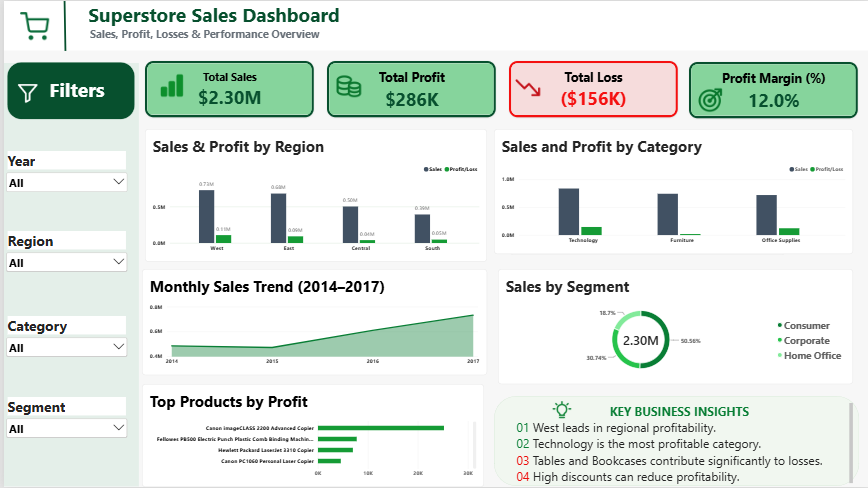

The dashboard page shown, as its layout file describes it:
{"tool":"powerbi","page":{"name":"Page 1","canvas":[1920,1080],"ordinal":0},"visuals":[{"type":"cardVisual","fields":{"Data":["Avg(SuperMarket.Profit Margin (%))"]},"box":[1524.2,135.6,375,125],"z":0,"group":"g1"},{"type":"shape","box":[1088.5,878.8,811.5,200],"z":0},{"type":"cardVisual","fields":{"Data":["Sum(SuperMarket.Sales)"]},"box":[313,132.2,375,125],"z":1000,"group":"g4"},{"type":"cardVisual","fields":{"Data":["Sum(SuperMarket.Loss)"]},"box":[1121.1,132.2,375,125],"z":1000,"group":"g2"},{"type":"textbox","box":[1125,892.3,761.5,188.5],"z":1000,"group":"g7"},{"type":"cardVisual","fields":{"Data":["Sum(SuperMarket.Profit)"]},"box":[717.1,132.2,375,125],"z":2000,"group":"g5"},{"type":"shape","box":[0,138.9,299.8,941.1],"z":2000},{"type":"shape","box":[6.6,136.7,284.3,127.8],"z":3000},{"type":"shape","box":[0,0,1920,110],"z":4000},{"type":"textbox","box":[175.6,0,662.2,82.2],"z":5000},{"type":"textbox","box":[191.1,55.6,680,55.6],"z":6000},{"type":"shape","box":[100,0,71.1,111.1],"z":7000},{"type":"image","box":[35,25,65,65],"z":8000},{"type":"slicer","fields":{"Values":["SuperMarket.Year"]},"box":[0,333.3,279,100],"z":9000},{"type":"clusteredColumnChart","title":"Sales & Profit by Region","fields":{"Category":["SuperMarket.Region"],"Y":["Sum(SuperMarket.Sales)","Sum(SuperMarket.Profit)"]},"box":[313,284.3,760.4,295.3],"z":10000},{"type":"lineChart","fields":{"Category":["SuperMarket.Year"],"Y":["Sum(SuperMarket.Sales)"]},"box":[1124.1,304.2,611.1,260],"z":11000},{"type":"clusteredBarChart","title":"Top Products by Profit","fields":{"Category":["SuperMarket.Product Name"],"Y":["Sum(SuperMarket.Profit)"]},"box":[306.4,850.8,760.4,229.2],"z":12000},{"type":"clusteredColumnChart","title":"Sales and Profit by Category","fields":{"Category":["SuperMarket.Category"],"Y":["Sum(SuperMarket.Sales)","Sum(SuperMarket.Profit)"]},"box":[1088.8,284.3,797.9,277.7],"z":13000},{"type":"image","box":[13.2,177,79.3,52.9],"z":14000,"group":"g6"},{"type":"donutChart","title":"Sales by Segment","fields":{"Category":["SuperMarket.Segment"],"Y":["Sum(SuperMarket.Sales)"]},"box":[1097.6,595.1,789.1,255.7],"z":14000},{"type":"image","box":[299.8,156.4,145,60],"z":15000,"group":"g4"},{"type":"lineChart","title":"Monthly Sales Trend (2014–2017)","fields":{"Category":["SuperMarket.Year"],"Y":["Sum(SuperMarket.Sales)"]},"box":[306.4,595.1,767,235.8],"z":15000},{"type":"image","box":[692.1,156.4,145,60],"z":16000,"group":"g5"},{"type":"image","box":[1150,887.9,181.1,41.9],"z":16000,"group":"g7"},{"type":"slicer","fields":{"Values":["SuperMarket.Region"]},"box":[0,511.3,279,100],"z":17000},{"type":"image","box":[1091,165.3,145,60],"z":18000,"group":"g2"},{"type":"slicer","fields":{"Values":["SuperMarket.Segment"]},"box":[0,879.4,279,100],"z":18000},{"type":"slicer","fields":{"Values":["SuperMarket.Category"]},"box":[0,700.9,279,100],"z":19000},{"type":"group","id":"g1","title":"Group 1","box":[1498.8,135.6,400.4,125],"z":20000},{"type":"image","box":[1498.8,189.9,145,60],"z":20000,"group":"g1"},{"type":"group","id":"g2","title":"Group 2","box":[1091,132.2,405.1,125],"z":21000},{"type":"group","id":"g3","title":"Group 3","box":[299.8,132.2,792.3,125],"z":22000},{"type":"textbox","box":[33,167,257.9,97],"z":22000,"group":"g6"},{"type":"group","id":"g4","title":"Group 4","box":[299.8,132.2,388.2,125],"z":22002,"group":"g3"},{"type":"group","id":"g5","title":"Group 5","box":[692.1,132.2,400,125],"z":22005,"group":"g3"},{"type":"group","id":"g6","title":"Group 6","box":[13.2,167,277.7,97],"z":23000},{"type":"group","id":"g7","title":"Group 7","box":[1125,887.9,761.5,192.9],"z":23001}]}

Visuals, with their boxes in screenshot pixels (x1, y1, x2, y2), scaled from the page's 1920x1080 canvas onto the 868x488 screenshot:
cardVisual - Avg(SuperMarket.Profit Margin (%)): {"x1": 689, "y1": 61, "x2": 859, "y2": 118}
shape: {"x1": 492, "y1": 397, "x2": 859, "y2": 487}
cardVisual - Sum(SuperMarket.Sales): {"x1": 142, "y1": 60, "x2": 311, "y2": 116}
cardVisual - Sum(SuperMarket.Loss): {"x1": 507, "y1": 60, "x2": 676, "y2": 116}
textbox: {"x1": 509, "y1": 403, "x2": 853, "y2": 487}
cardVisual - Sum(SuperMarket.Profit): {"x1": 324, "y1": 60, "x2": 494, "y2": 116}
shape: {"x1": 0, "y1": 63, "x2": 136, "y2": 487}
shape: {"x1": 3, "y1": 62, "x2": 132, "y2": 120}
shape: {"x1": 0, "y1": 0, "x2": 867, "y2": 50}
textbox: {"x1": 79, "y1": 0, "x2": 379, "y2": 37}
textbox: {"x1": 86, "y1": 25, "x2": 394, "y2": 50}
shape: {"x1": 45, "y1": 0, "x2": 77, "y2": 50}
image: {"x1": 16, "y1": 11, "x2": 45, "y2": 41}
slicer - SuperMarket.Year: {"x1": 0, "y1": 151, "x2": 126, "y2": 196}
"Sales & Profit by Region" clusteredColumnChart: {"x1": 142, "y1": 128, "x2": 485, "y2": 262}
lineChart - SuperMarket.Year x Sum(SuperMarket.Sales): {"x1": 508, "y1": 137, "x2": 784, "y2": 255}
"Top Products by Profit" clusteredBarChart: {"x1": 139, "y1": 384, "x2": 482, "y2": 487}
"Sales and Profit by Category" clusteredColumnChart: {"x1": 492, "y1": 128, "x2": 853, "y2": 254}
image: {"x1": 6, "y1": 80, "x2": 42, "y2": 104}
"Sales by Segment" donutChart: {"x1": 496, "y1": 269, "x2": 853, "y2": 384}
image: {"x1": 136, "y1": 71, "x2": 201, "y2": 98}
"Monthly Sales Trend (2014–2017)" lineChart: {"x1": 139, "y1": 269, "x2": 485, "y2": 375}
image: {"x1": 313, "y1": 71, "x2": 378, "y2": 98}
image: {"x1": 520, "y1": 401, "x2": 602, "y2": 420}
slicer - SuperMarket.Region: {"x1": 0, "y1": 231, "x2": 126, "y2": 276}
image: {"x1": 493, "y1": 75, "x2": 559, "y2": 102}
slicer - SuperMarket.Segment: {"x1": 0, "y1": 397, "x2": 126, "y2": 443}
slicer - SuperMarket.Category: {"x1": 0, "y1": 317, "x2": 126, "y2": 362}
"Group 1" group: {"x1": 678, "y1": 61, "x2": 859, "y2": 118}
image: {"x1": 678, "y1": 86, "x2": 743, "y2": 113}
"Group 2" group: {"x1": 493, "y1": 60, "x2": 676, "y2": 116}
"Group 3" group: {"x1": 136, "y1": 60, "x2": 494, "y2": 116}
textbox: {"x1": 15, "y1": 75, "x2": 132, "y2": 119}
"Group 4" group: {"x1": 136, "y1": 60, "x2": 311, "y2": 116}
"Group 5" group: {"x1": 313, "y1": 60, "x2": 494, "y2": 116}
"Group 6" group: {"x1": 6, "y1": 75, "x2": 132, "y2": 119}
"Group 7" group: {"x1": 509, "y1": 401, "x2": 853, "y2": 487}
